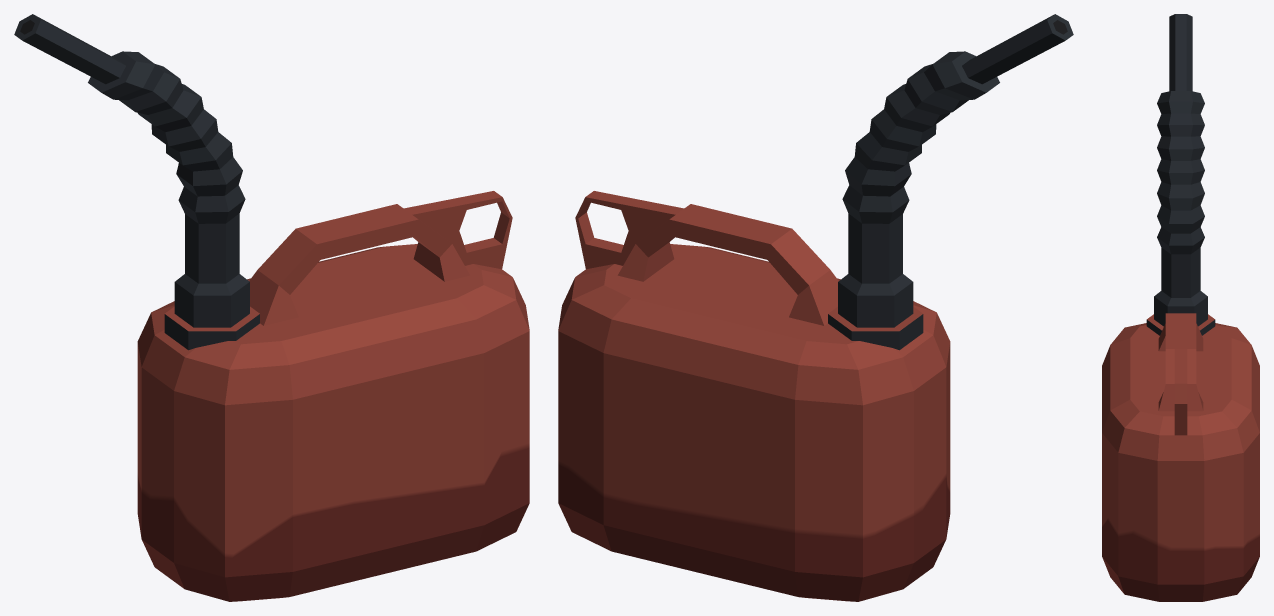
The model's file is SM_Canister_A.gltf.
The picture shows the model from 3 angles, left to right: view 1: azimuth 30°, elevation 25°; view 2: azimuth 150°, elevation 25°; view 3: azimuth 270°, elevation 25°; orthographic projection. The views are drawn at different scales.
Visible parts, largest first — view 1: SM_Canister_A; view 2: SM_Canister_A; view 3: SM_Canister_A.
Part boxes in pixels (x1,y1,x2,y2): SM_Canister_A: [14, 14, 529, 601]; SM_Canister_A: [558, 14, 1073, 601]; SM_Canister_A: [1102, 14, 1259, 601].
Size of the model in its own units: 0.5643 by 0.6652 by 0.2187.
1 material, 1 textured.
